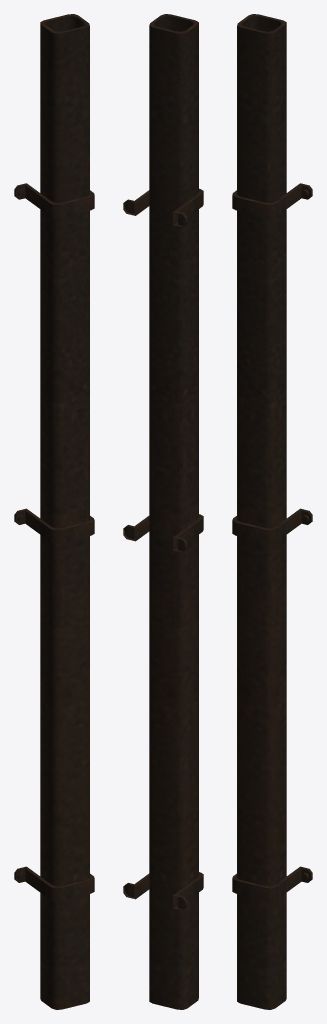
The model's file is rainwater_downpipe_hl_1_middle.dae.
The picture shows the model from 3 angles, left to right: view 1: azimuth 30°, elevation 25°; view 2: azimuth 150°, elevation 25°; view 3: azimuth 330°, elevation 25°; orthographic projection.
Parts seen in each view (by area): view 1: rainwater_downpipe_hl_1_middle; view 2: rainwater_downpipe_hl_1_middle; view 3: rainwater_downpipe_hl_1_middle.
Boxes of the visible parts, x1,y1,x2,y2 form: rainwater_downpipe_hl_1_middle: (14,14,94,1009); rainwater_downpipe_hl_1_middle: (123,14,203,1009); rainwater_downpipe_hl_1_middle: (232,14,312,1009).
Size of the model in its own units: 0.2 by 0.17 by 3.
1 material, 1 textured.
